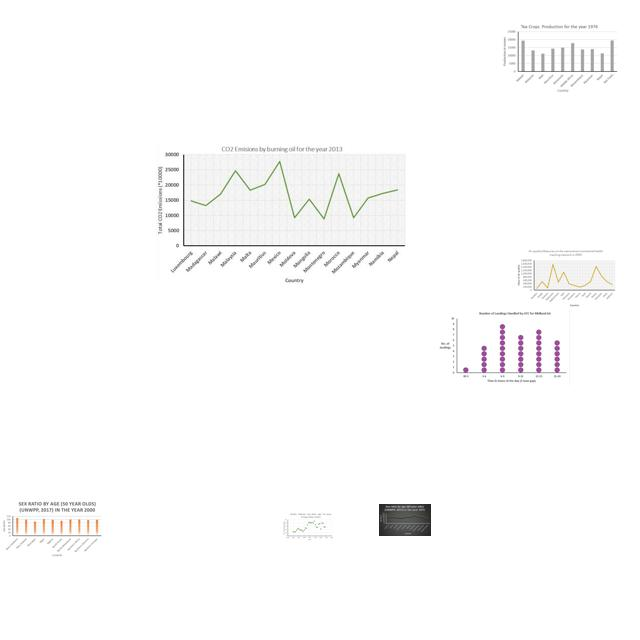Graph: (156, 143, 407, 285), (436, 309, 570, 386), (500, 23, 619, 93), (515, 248, 617, 308), (0, 499, 103, 558), (379, 504, 431, 536), (282, 512, 334, 541)
